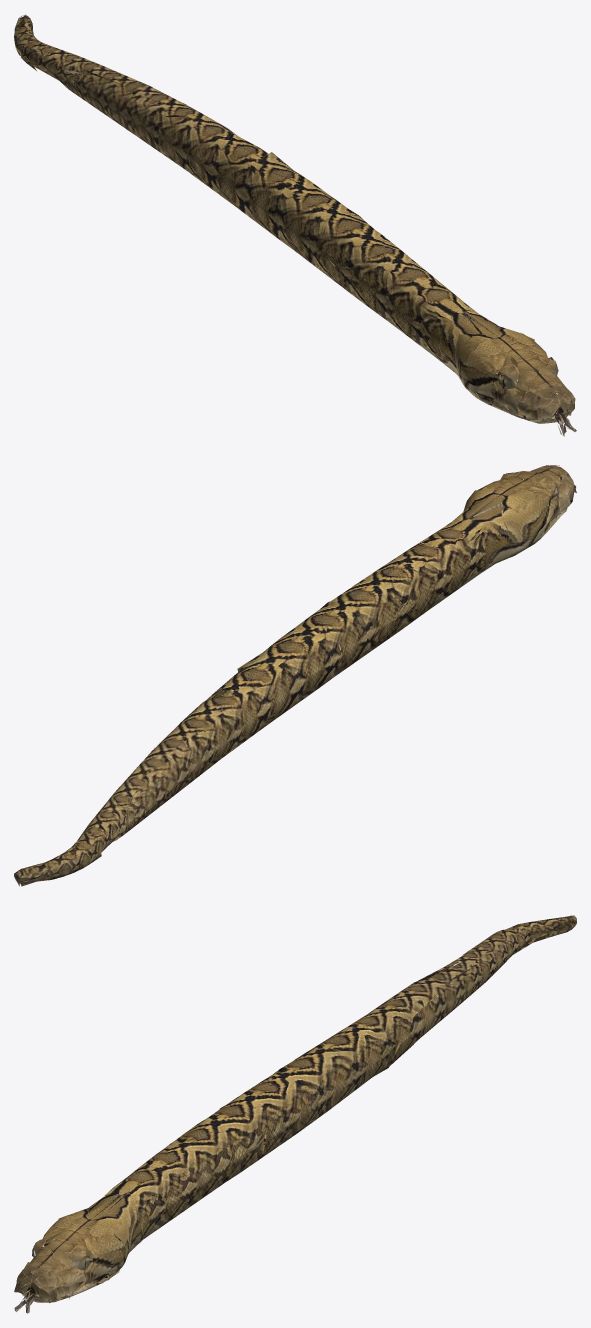
The model's file is python.glb.
3 views of the same model, one above another, from view 1: azimuth 30°, elevation 25°; view 2: azimuth 150°, elevation 25°; view 3: azimuth 330°, elevation 25° (orthographic). The views are drawn at different scales.
Visible parts, largest first — view 1: output_unwrapped; view 2: output_unwrapped; view 3: output_unwrapped.
Part boxes in pixels (bbox=[...]): output_unwrapped: bbox=[14, 14, 576, 436]; output_unwrapped: bbox=[14, 465, 576, 886]; output_unwrapped: bbox=[14, 915, 576, 1313].
Bounding box in the file's own units: 0.2993 × 0.2289 × 4.
Materials: 1 (1 with a texture image).
